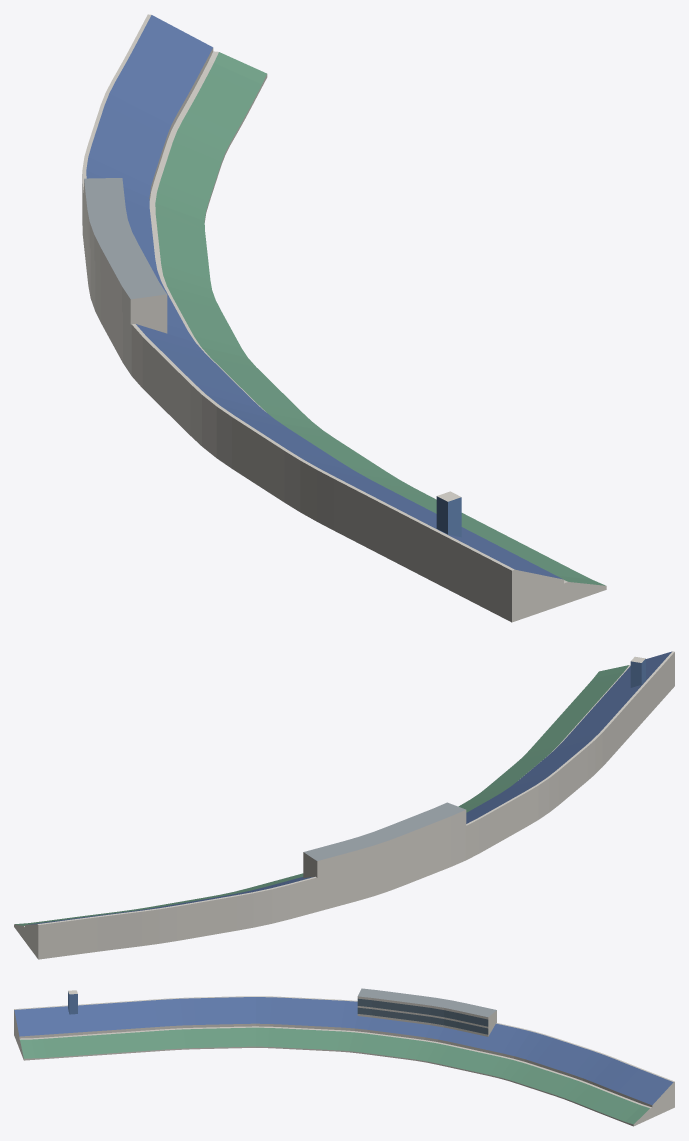
File: kc-kansas-speedway.glb
The picture shows the model from 3 angles, top to bottom: view 1: azimuth 30°, elevation 25°; view 2: azimuth 150°, elevation 25°; view 3: azimuth 270°, elevation 25°; orthographic projection. The views are drawn at different scales.
Visible parts, largest first — view 1: Kansas Speedway grandstand; view 2: Kansas Speedway grandstand; view 3: Kansas Speedway grandstand.
Part boxes in pixels (bbox=[...]): Kansas Speedway grandstand: bbox=[82, 14, 606, 622]; Kansas Speedway grandstand: bbox=[14, 651, 674, 959]; Kansas Speedway grandstand: bbox=[14, 988, 674, 1126].
Bounding box in the file's own units: 251 × 46.8 × 670.
